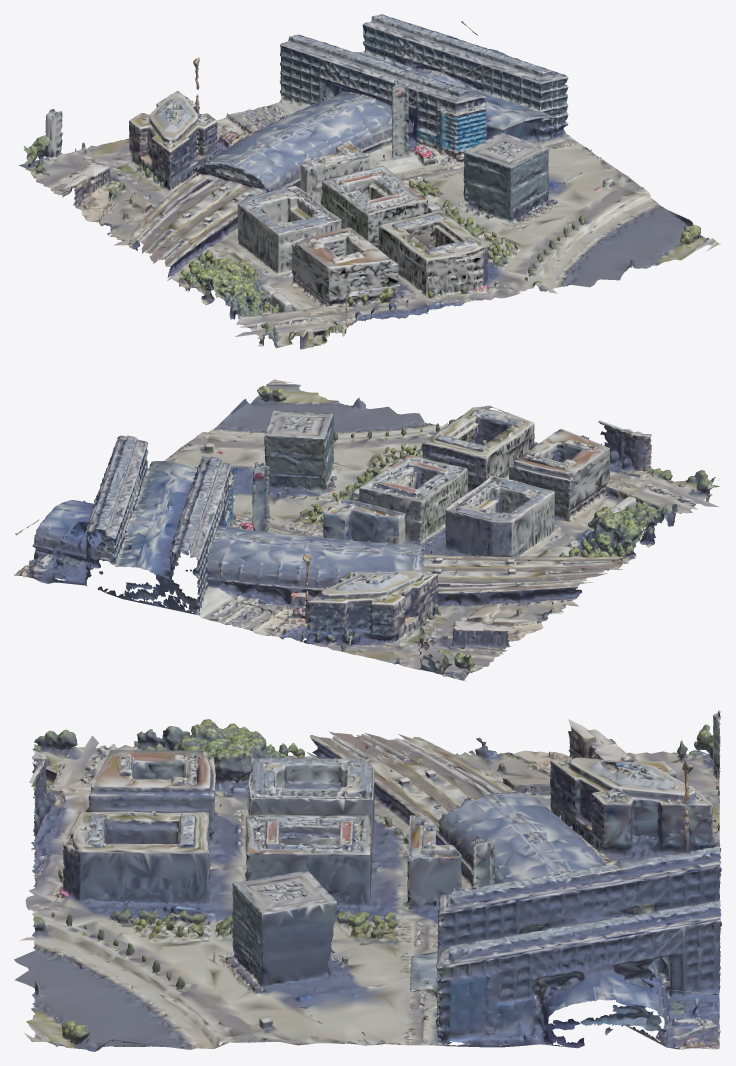
The model's file is surface-detail-3890_58203.glb.
The picture shows the model from 3 angles, top to bottom: view 1: azimuth 30°, elevation 25°; view 2: azimuth 150°, elevation 25°; view 3: azimuth 270°, elevation 25°; orthographic projection. The views are drawn at different scales.
Visible parts, largest first — view 1: world; view 2: world; view 3: world.
Boxes of the visible parts, <box> form: world: <box>19,14,720,349</box>; world: <box>14,378,719,681</box>; world: <box>14,710,721,1051</box>.
Size of the model in its own units: 378 by 67.15 by 373.
